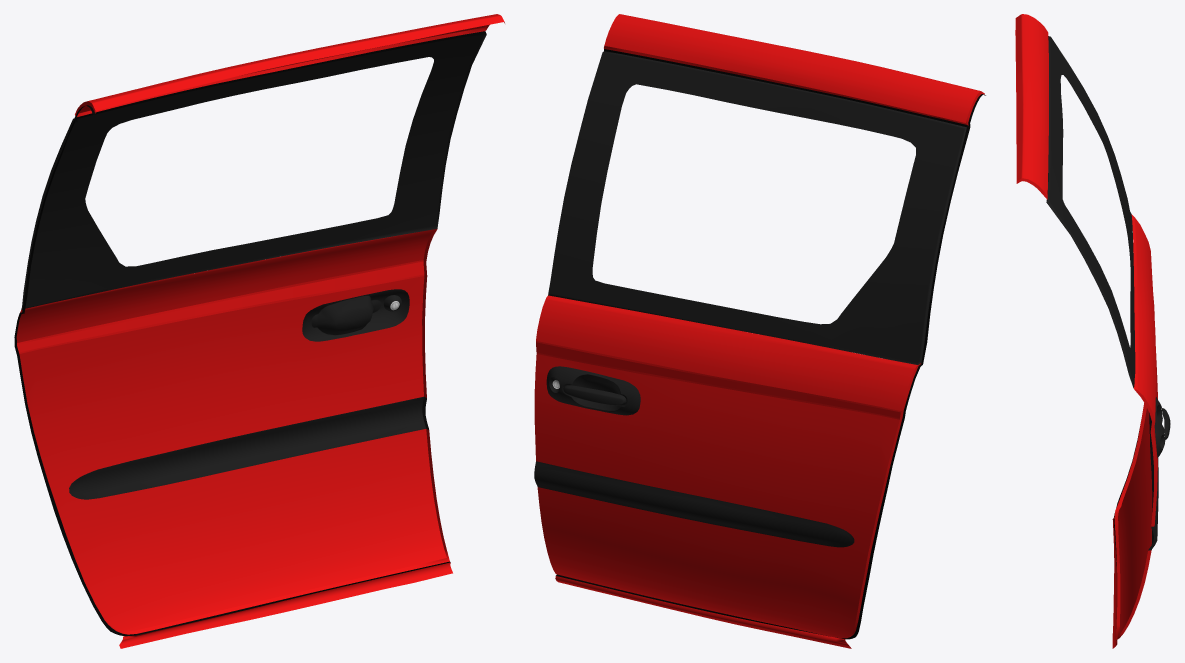
3 views of the same model, side by side, from view 1: azimuth 30°, elevation 25°; view 2: azimuth 150°, elevation 25°; view 3: azimuth 270°, elevation 25° (orthographic). The views are drawn at different scales.
Visible parts, largest first — view 1: N664_9A_301B_L_1_DaS_N664_9A_301B_L, N664_9A_301B_L_N664_9A_301B_L_2_D, N664_9A_301B_L_1_DaS_N664_9A_301B_L_E, N664_9A_301B_L_N664_9A_301B_L_4_D; view 2: N664_9A_301B_L_1_DaS_N664_9A_301B_L, N664_9A_301B_L_N664_9A_301B_L_2_D, N664_9A_301B_L_1_DaS_N664_9A_301B_L_E, N664_9A_301B_L_N664_9A_301B_L_4_D; view 3: N664_9A_301B_L_1_DaS_N664_9A_301B_L, N664_9A_301B_L_N664_9A_301B_L_2_D, N664_9A_301B_L_1_DaS_N664_9A_301B_L_E.
Boxes of the visible parts, x1,y1,x2,y2 form: N664_9A_301B_L_1_DaS_N664_9A_301B_L: (16,14,504,648); N664_9A_301B_L_N664_9A_301B_L_2_D: (21,34,486,499); N664_9A_301B_L_1_DaS_N664_9A_301B_L_E: (17,22,504,634); N664_9A_301B_L_N664_9A_301B_L_4_D: (14,31,486,636); N664_9A_301B_L_1_DaS_N664_9A_301B_L: (534,14,984,648); N664_9A_301B_L_N664_9A_301B_L_2_D: (534,51,966,547); N664_9A_301B_L_1_DaS_N664_9A_301B_L_E: (536,46,984,637); N664_9A_301B_L_N664_9A_301B_L_4_D: (556,49,985,639); N664_9A_301B_L_1_DaS_N664_9A_301B_L: (1015,14,1157,648); N664_9A_301B_L_N664_9A_301B_L_2_D: (1046,36,1170,550); N664_9A_301B_L_1_DaS_N664_9A_301B_L_E: (1016,178,1157,639).
Bounding box in the file's own units: 101 × 140 × 41.42.
